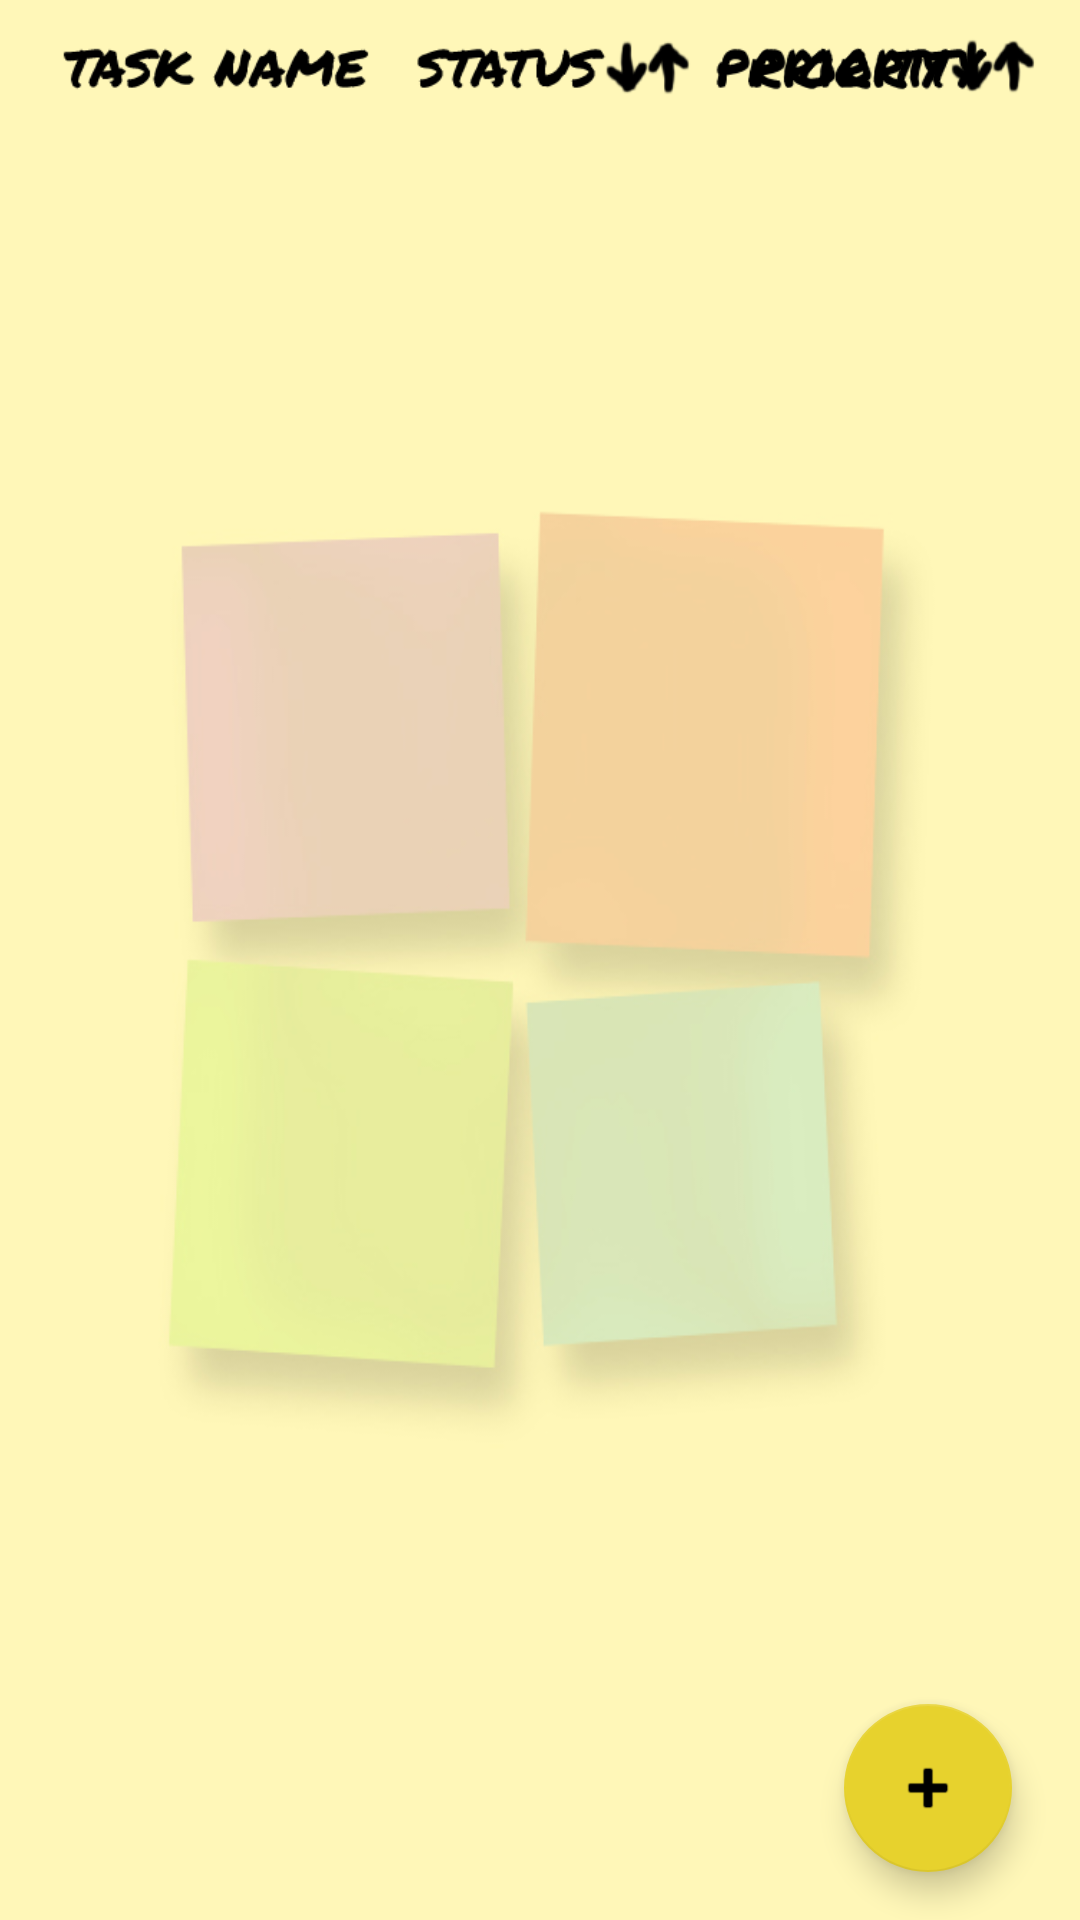

Icon click points for this 1080w x 1920h phone screenshot, format point (x, y):
add: point (928, 1788)
